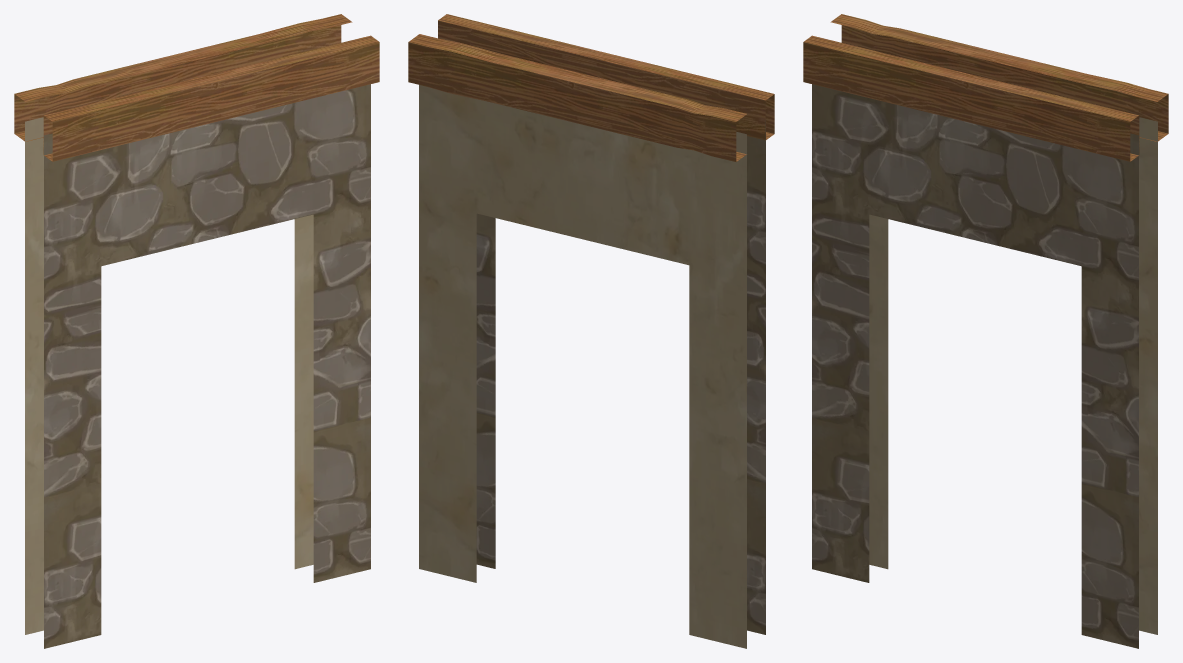
File: wall_unevenbrick_door_flat.glb
The picture shows the model from 3 angles, left to right: view 1: azimuth 30°, elevation 25°; view 2: azimuth 150°, elevation 25°; view 3: azimuth 330°, elevation 25°; orthographic projection.
Bounding box in the file's own units: 2 × 3.12 × 0.4066.
3 materials, 3 textured.
